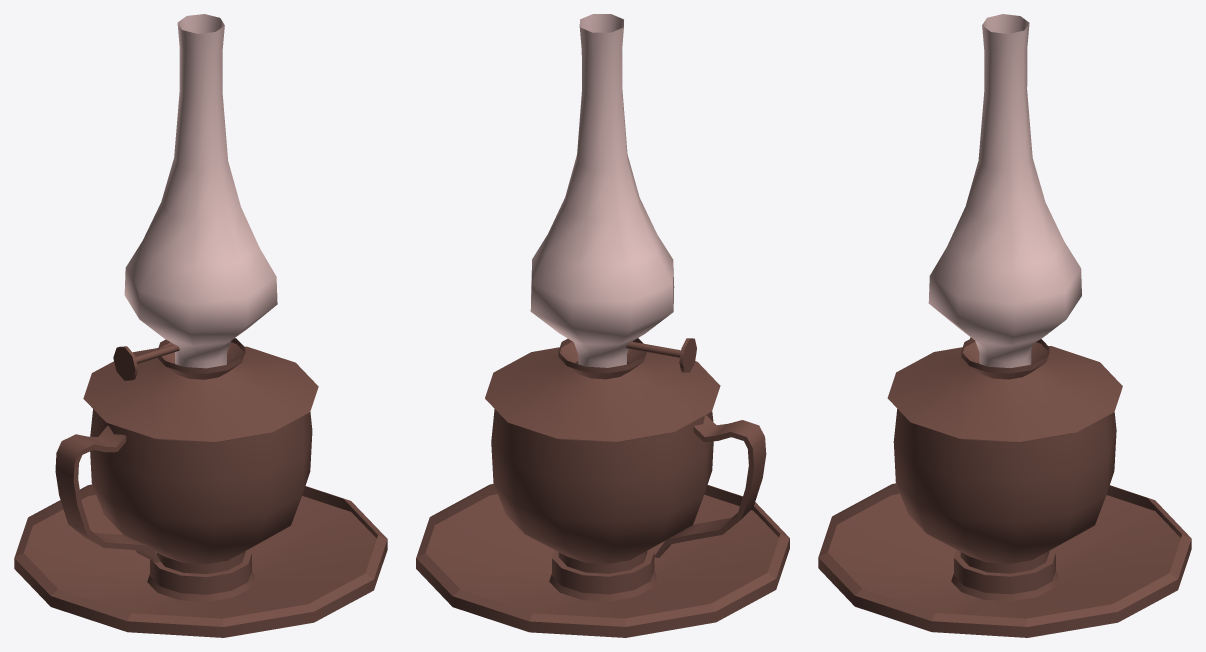
The model's file is SM_OilLamp_01.fbx.
3 views of the same model, side by side, from view 1: azimuth 30°, elevation 25°; view 2: azimuth 150°, elevation 25°; view 3: azimuth 270°, elevation 25° (orthographic).
Visible parts, largest first — view 1: BézierCurve.004; view 2: BézierCurve.004; view 3: BézierCurve.004.
Boxes of the visible parts, x1=… form: BézierCurve.004: x1=14, y1=14, x2=387, y2=637; BézierCurve.004: x1=416, y1=14, x2=789, y2=637; BézierCurve.004: x1=818, y1=14, x2=1191, y2=637.
Size of the model in its own units: 28.95 by 47.5 by 28.95.
